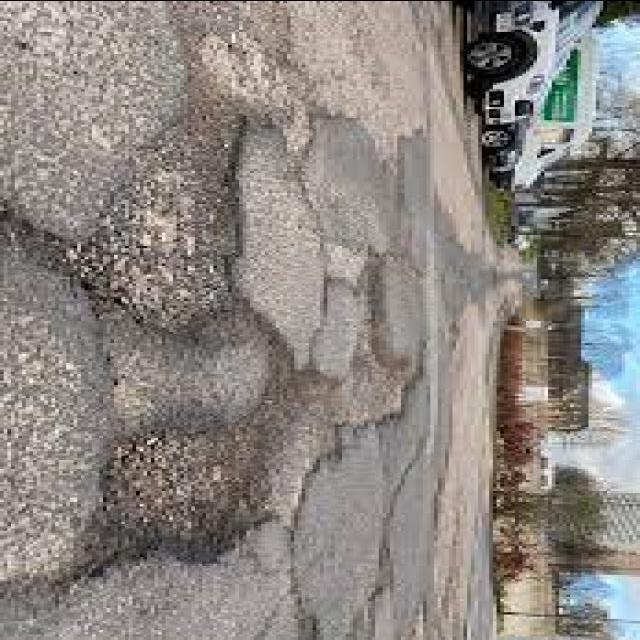pothole: (68, 88, 240, 340), (70, 394, 272, 601)
